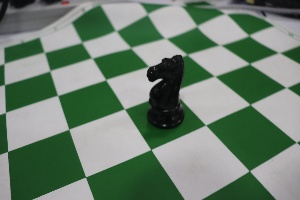black_horse: (137, 41, 191, 139)
